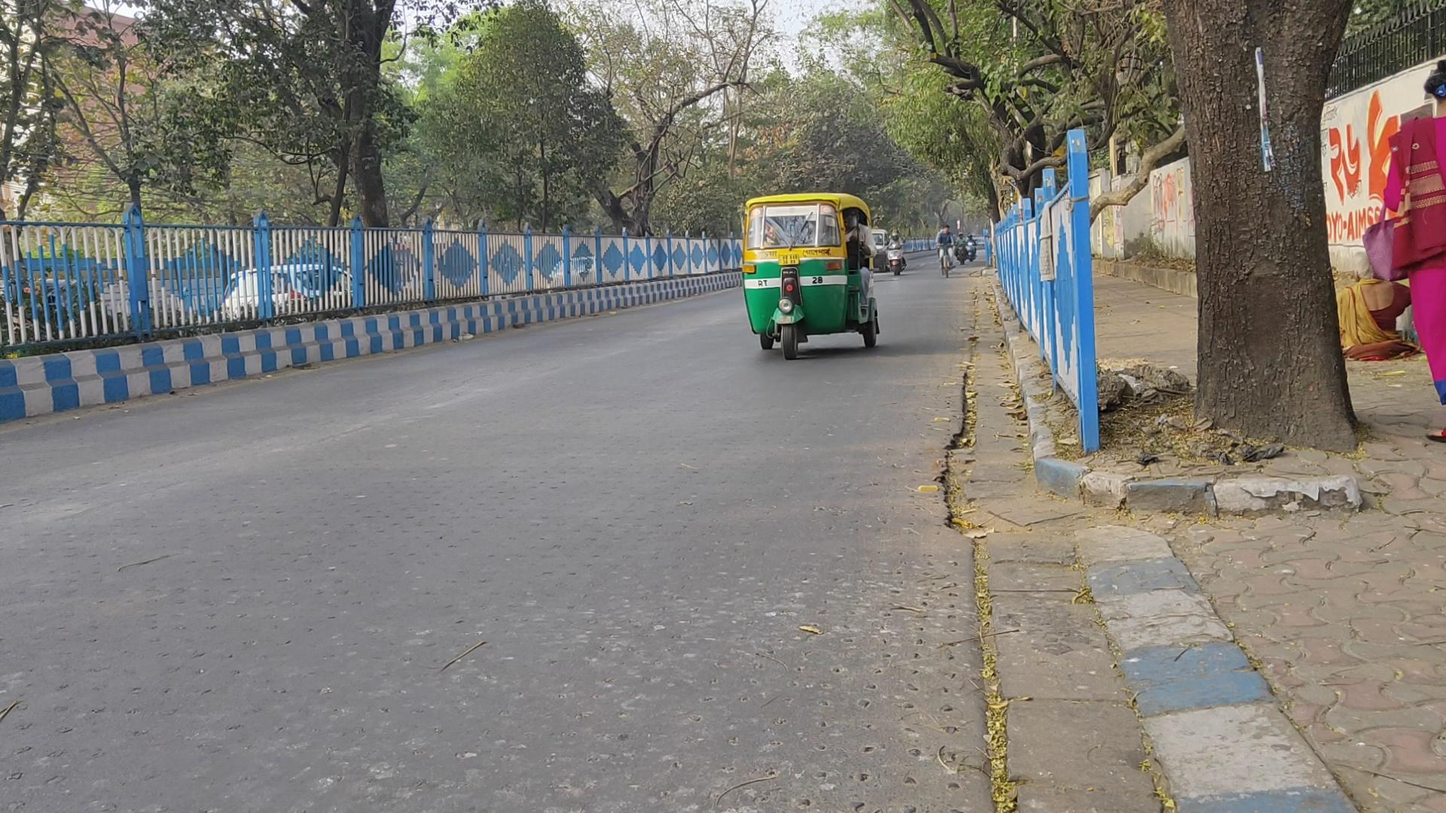Auto: (742, 193, 879, 358)
bike: (935, 224, 956, 279), (883, 230, 907, 276), (954, 231, 969, 266), (966, 233, 978, 262)
